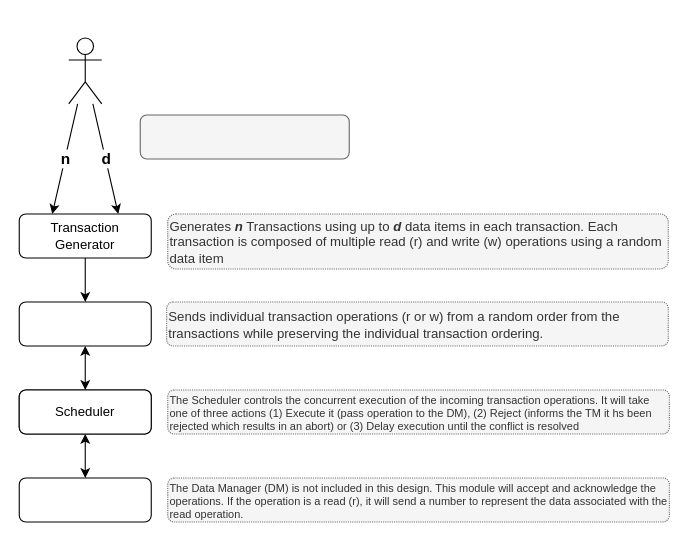
This 689x541 diagram has some shape labels left out. The centre of each missing label's shape, as x and y in pixels:
"Data Manager (DM)" goes at [84,499].
"n = Number of Transactions d = Number of Data Items" goes at [244,136].
"Transaction Manager (DM)" goes at [84,323].
"User" goes at [85,70].
